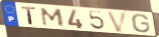4: (66, 8, 85, 30)
5: (88, 10, 107, 31)
G: (131, 14, 152, 34)
M: (40, 7, 65, 27)
T: (20, 5, 38, 25)
V: (106, 11, 129, 33)
